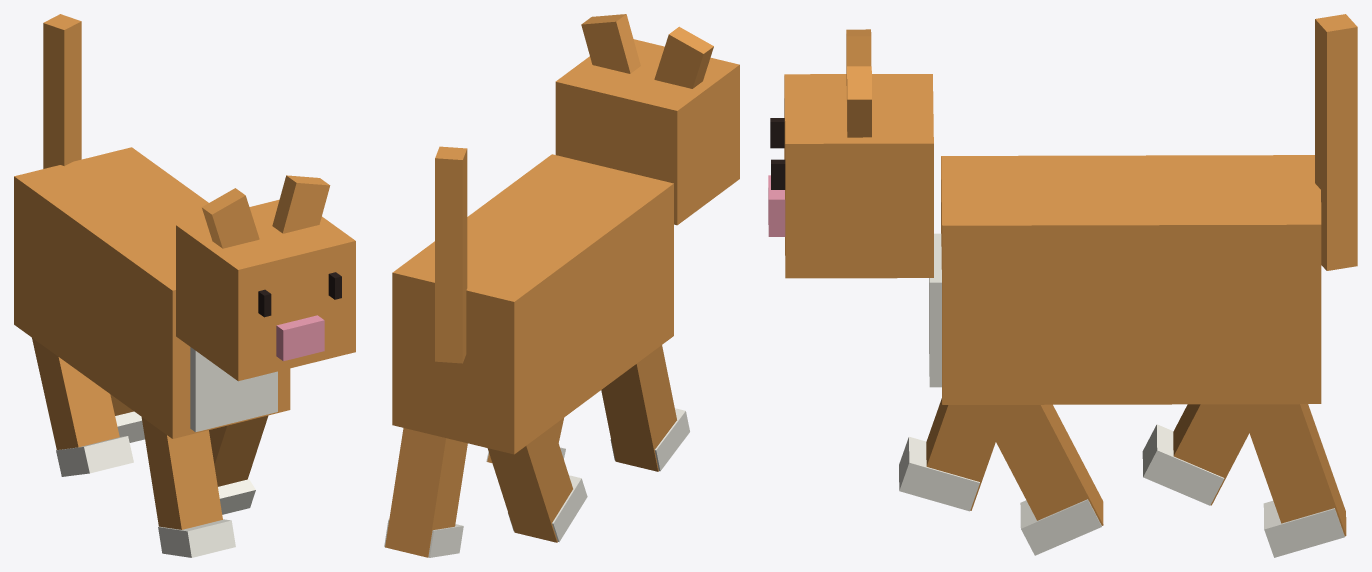
The model's file is pet_nguyens.glb.
3 renders of one model, left to right at view 1: azimuth 30°, elevation 25°; view 2: azimuth 150°, elevation 25°; view 3: azimuth 270°, elevation 25°, orthographic. The views are drawn at different scales.
Parts seen in each view (by area): view 1: Box1, Box3, Box14, Box9, Box12, Box2, Box10, Box7, Box8, Box15, Box13, Box6 (+2 smaller); view 2: Box1, Box3, Box16, Box9, Box14, Box12, Box7, Box8, Box13, Box15, Box17; view 3: Box1, Box3, Box9, Box10, Box16, Box12, Box14, Box13, Box15, Box17, Box11, Box7 (+3 smaller).
Boxes of the visible parts, bbox=[...] form: Box1: bbox=[14, 147, 290, 438]; Box3: bbox=[176, 199, 355, 381]; Box14: bbox=[141, 417, 222, 529]; Box9: bbox=[43, 14, 81, 168]; Box12: bbox=[32, 338, 119, 449]; Box2: bbox=[190, 347, 277, 432]; Box10: bbox=[209, 415, 268, 486]; Box7: bbox=[272, 175, 330, 233]; Box8: bbox=[202, 188, 259, 248]; Box15: bbox=[158, 519, 235, 557]; Box13: bbox=[56, 436, 133, 476]; Box6: bbox=[276, 315, 324, 361]; Box1: bbox=[392, 154, 673, 454]; Box3: bbox=[555, 39, 739, 225]; Box16: bbox=[385, 428, 467, 557]; Box9: bbox=[435, 146, 467, 363]; Box14: bbox=[601, 345, 676, 471]; Box12: bbox=[487, 426, 572, 542]; Box7: bbox=[581, 14, 640, 73]; Box8: bbox=[654, 26, 713, 88]; Box13: bbox=[508, 475, 587, 541]; Box15: bbox=[610, 408, 689, 471]; Box17: bbox=[384, 519, 463, 557]; Box1: bbox=[941, 155, 1321, 404]; Box3: bbox=[784, 74, 933, 278]; Box9: bbox=[1315, 14, 1357, 270]; Box10: bbox=[977, 404, 1103, 525]; Box16: bbox=[1239, 404, 1346, 536]; Box12: bbox=[1173, 404, 1249, 505]; Box14: bbox=[926, 398, 995, 510]; Box13: bbox=[1142, 424, 1224, 505]; Box15: bbox=[899, 436, 979, 511]; Box17: bbox=[1263, 501, 1344, 557]; Box11: bbox=[1020, 499, 1101, 555]; Box7: bbox=[847, 66, 871, 137].
Size of the model in its own units: 0.1632 by 0.5335 by 0.5718.
